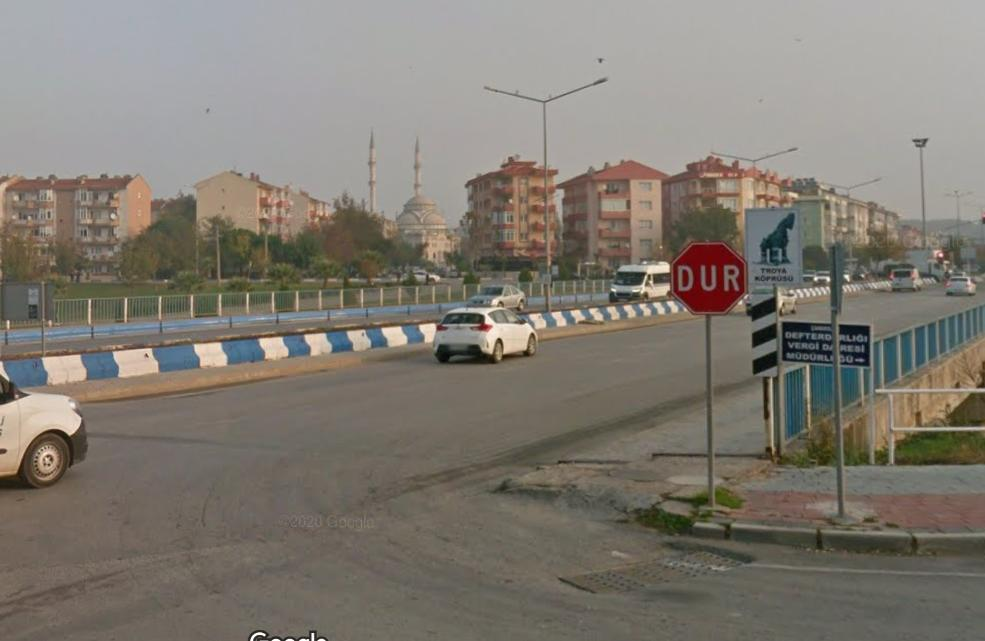stop: (673, 241, 746, 317)
